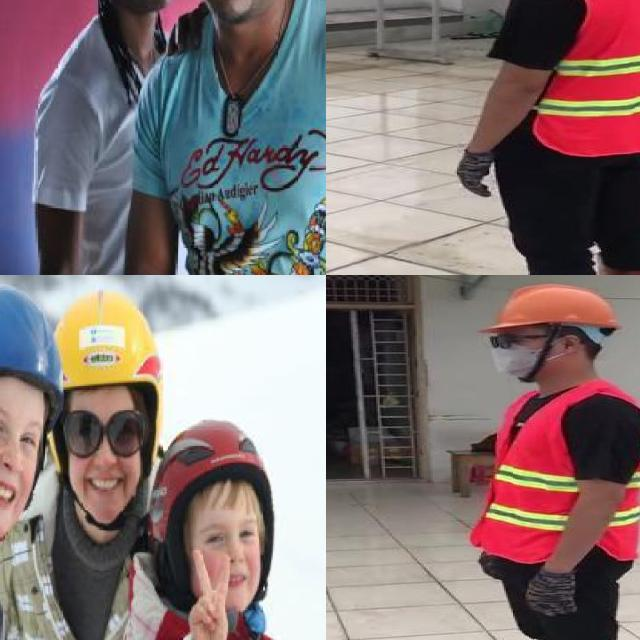face_mask: (482, 327, 556, 375)
face_nomask: (61, 407, 141, 499), (198, 524, 266, 600), (0, 413, 38, 507)
glasses: (57, 404, 153, 468), (481, 326, 545, 352)
hand_glove: (524, 570, 584, 615), (457, 147, 498, 197)
hand_noglove: (182, 552, 238, 640)
head_helmet: (43, 288, 166, 393), (157, 419, 272, 525), (481, 282, 621, 332), (0, 285, 61, 394)
person: (445, 278, 640, 640), (14, 275, 171, 640), (121, 0, 326, 275), (435, 0, 640, 275), (27, 0, 183, 275), (122, 416, 309, 640)
vest: (475, 387, 640, 561), (528, 0, 640, 156)
